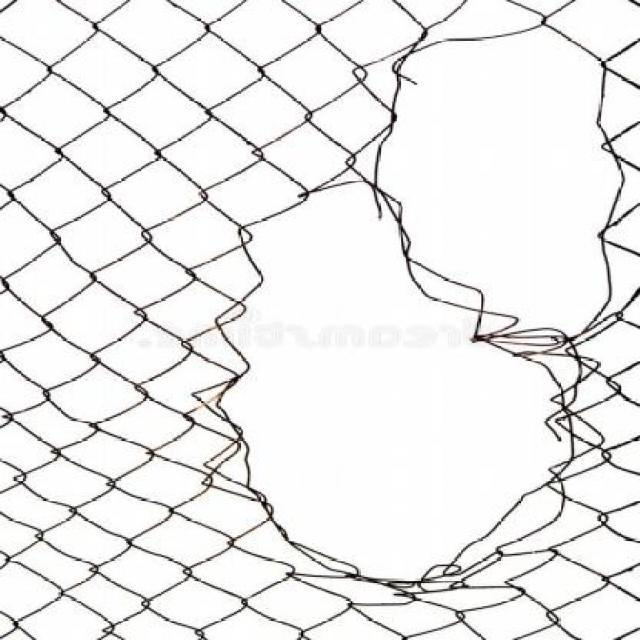fence line: (236, 42, 627, 573)
